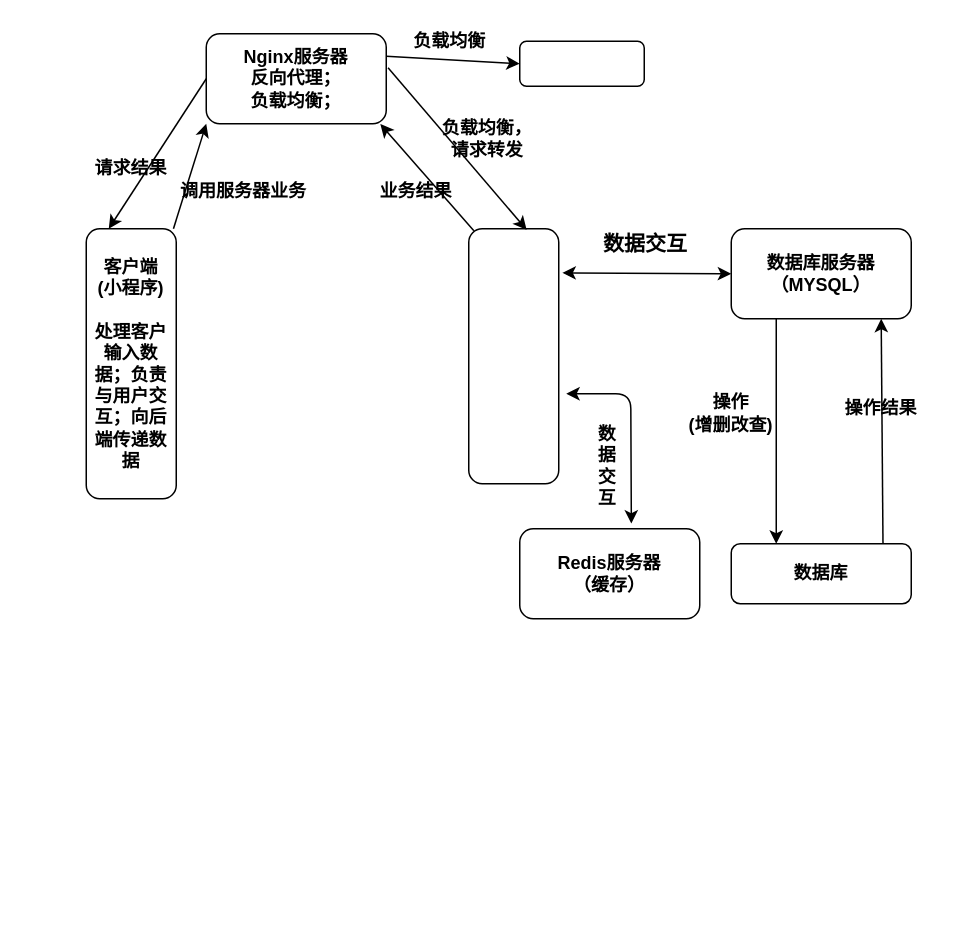
This 953x930 diagram has some shape labels left out. The centre of each missing label's shape, as x and y in pixels:
"服务器" goes at pixel 581 63.
"服务器 负责业务逻辑处理 ； 向前端返回数据" goes at pixel 513 355.
